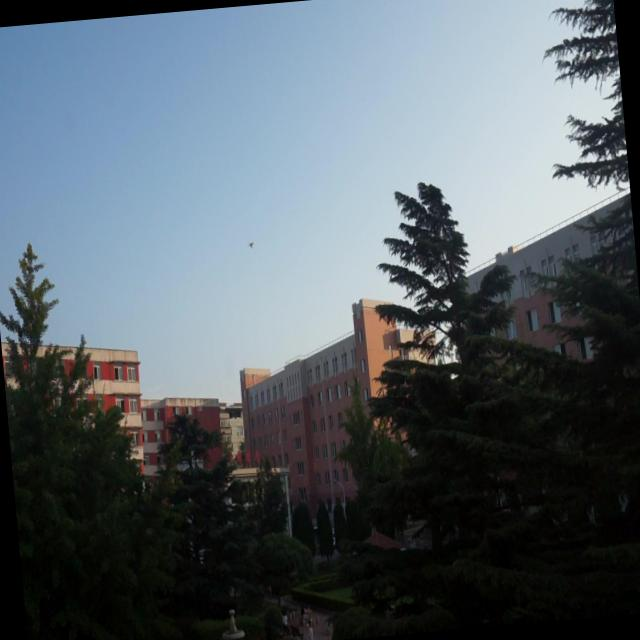drone: (245, 238, 255, 248)
